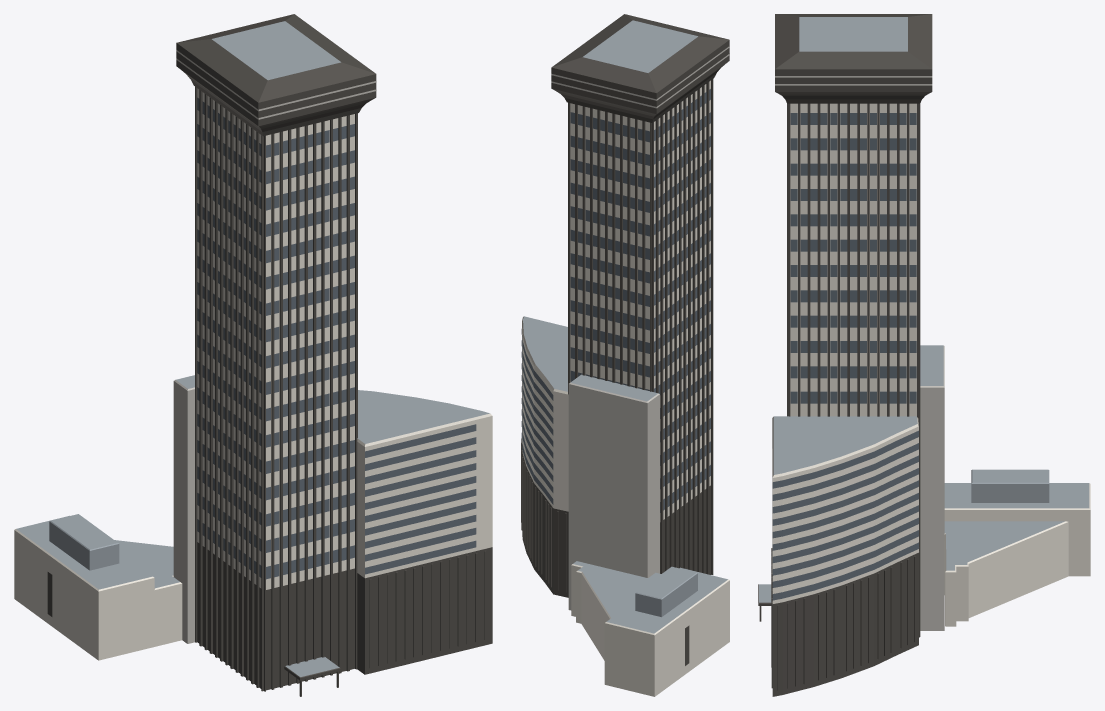
Rendered from nola-plaza-tower.glb.
3 views of the same model, side by side, from view 1: azimuth 30°, elevation 25°; view 2: azimuth 150°, elevation 25°; view 3: azimuth 270°, elevation 25° (orthographic). The views are drawn at different scales.
Visible parts, largest first — view 1: Plaza Tower; view 2: Plaza Tower; view 3: Plaza Tower.
Boxes of the visible parts, box(x1,y1,x2,y2) form: Plaza Tower: box(14, 14, 492, 696); Plaza Tower: box(521, 14, 729, 696); Plaza Tower: box(758, 14, 1090, 696).
Size of the model in its own units: 84.98 by 157 by 81.1.
